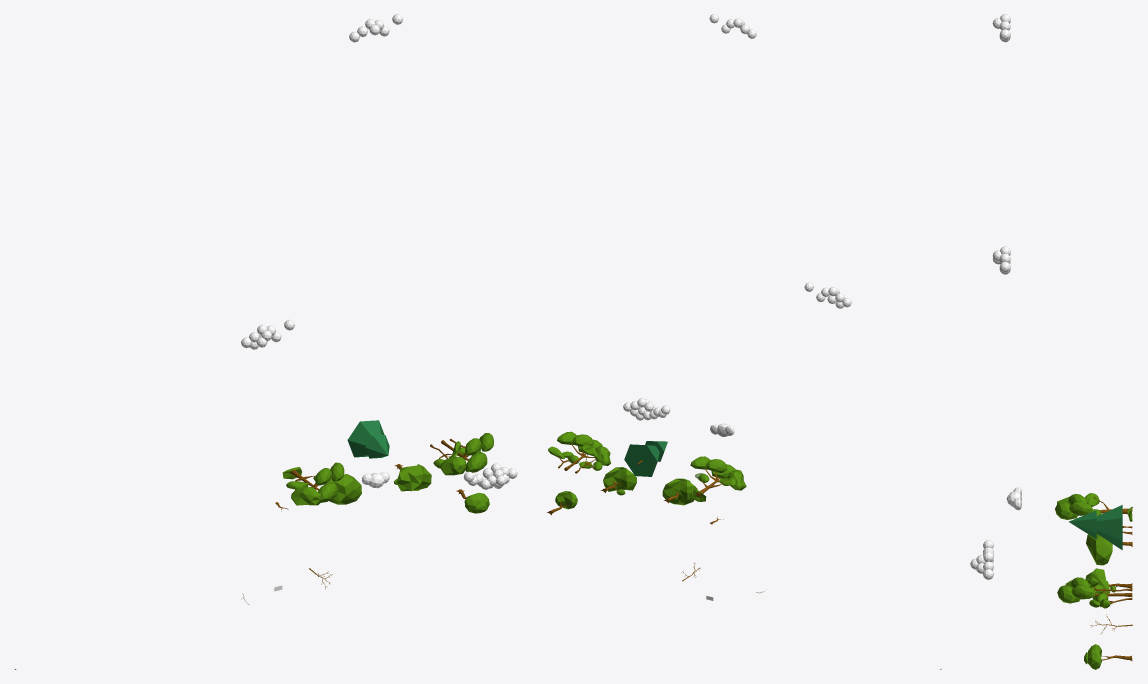
Rendered from teste1.glb.
3 views of the same model, side by side, from view 1: azimuth 30°, elevation 25°; view 2: azimuth 150°, elevation 25°; view 3: azimuth 270°, elevation 25° (orthographic). The views are drawn at different scales.
Visible parts, largest first — view 1: Sphere.002; view 2: Sphere.002; view 3: Sphere.002.
Part boxes in pixels (<box>): Sphere.002: <box>14,14,517,669</box>; Sphere.002: <box>547,14,941,669</box>; Sphere.002: <box>970,14,1133,669</box>.
Size of the model in its own units: 2083 by 2703 by 626.
